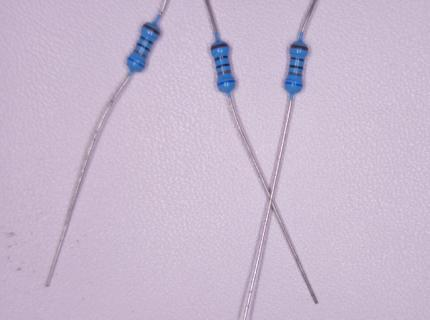Black band: (137, 43, 150, 52), (141, 36, 154, 44), (216, 63, 230, 69), (215, 56, 228, 62), (291, 57, 305, 61), (290, 65, 304, 69)
Blue band: (128, 57, 145, 68), (217, 80, 235, 86), (285, 82, 302, 87)
Brown band: (144, 24, 160, 35), (211, 43, 228, 51), (291, 45, 309, 51)
Grey band: (134, 49, 147, 58), (217, 70, 231, 76), (288, 72, 303, 77)
